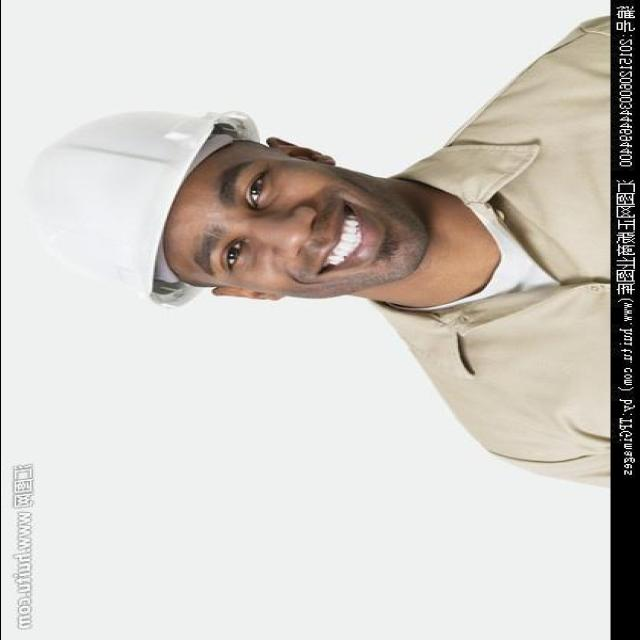helmet: (8, 95, 222, 333)
